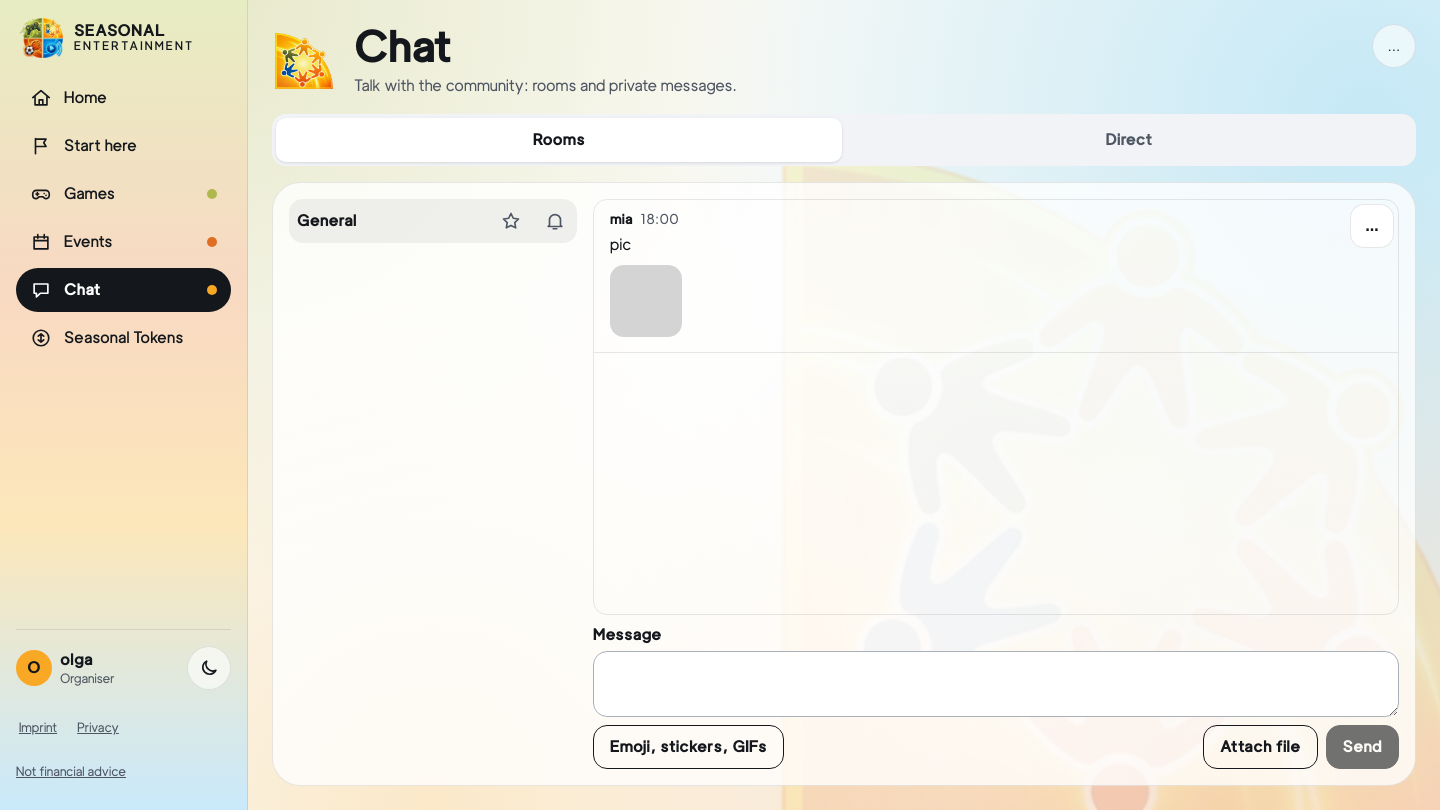
Test: files in messages › a moderator removes a file; the placeholder appears
Expected: the link "O olga Organiser" is shown, x1=16 y1=650 x2=115 y2=686
Click the button named "Actions for the message from" at point(1372, 226), box x1=1350 y1=204 x2=1394 y2=248
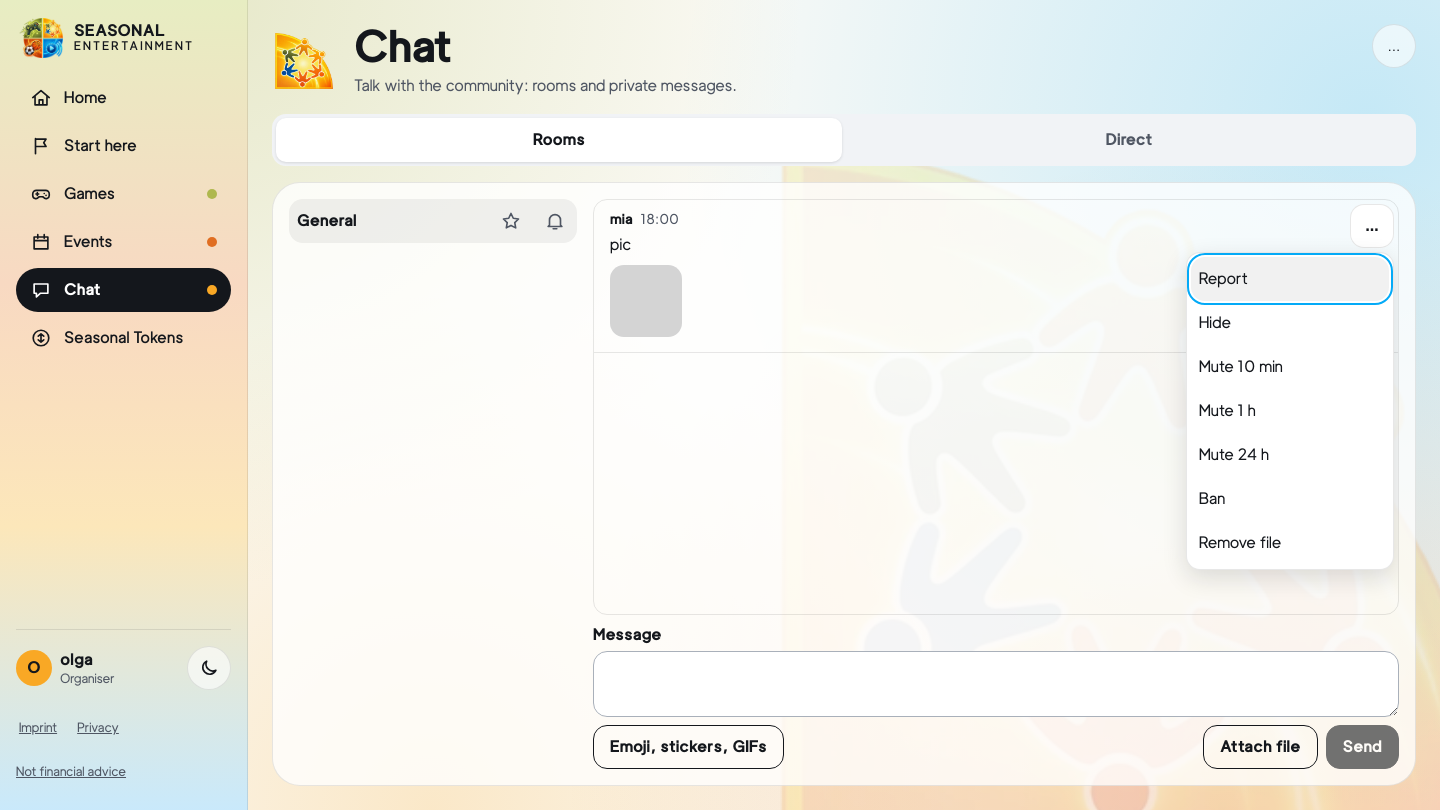
Click the menu item "Remove file" at point(1290, 543), box x1=1191 y1=521 x2=1389 y2=565
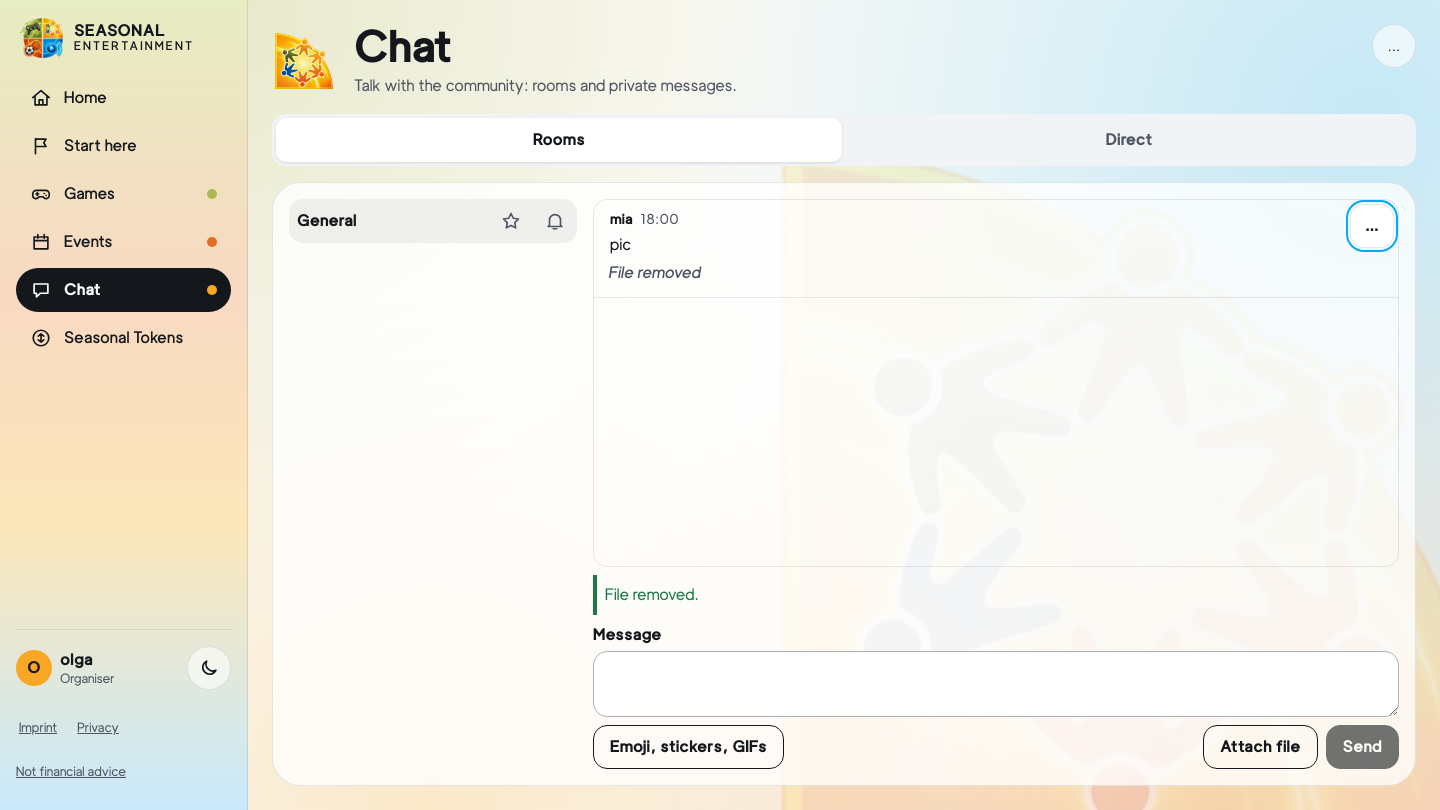
Result: the text "File removed" is shown at x1=610 y1=263 x2=702 y2=282
